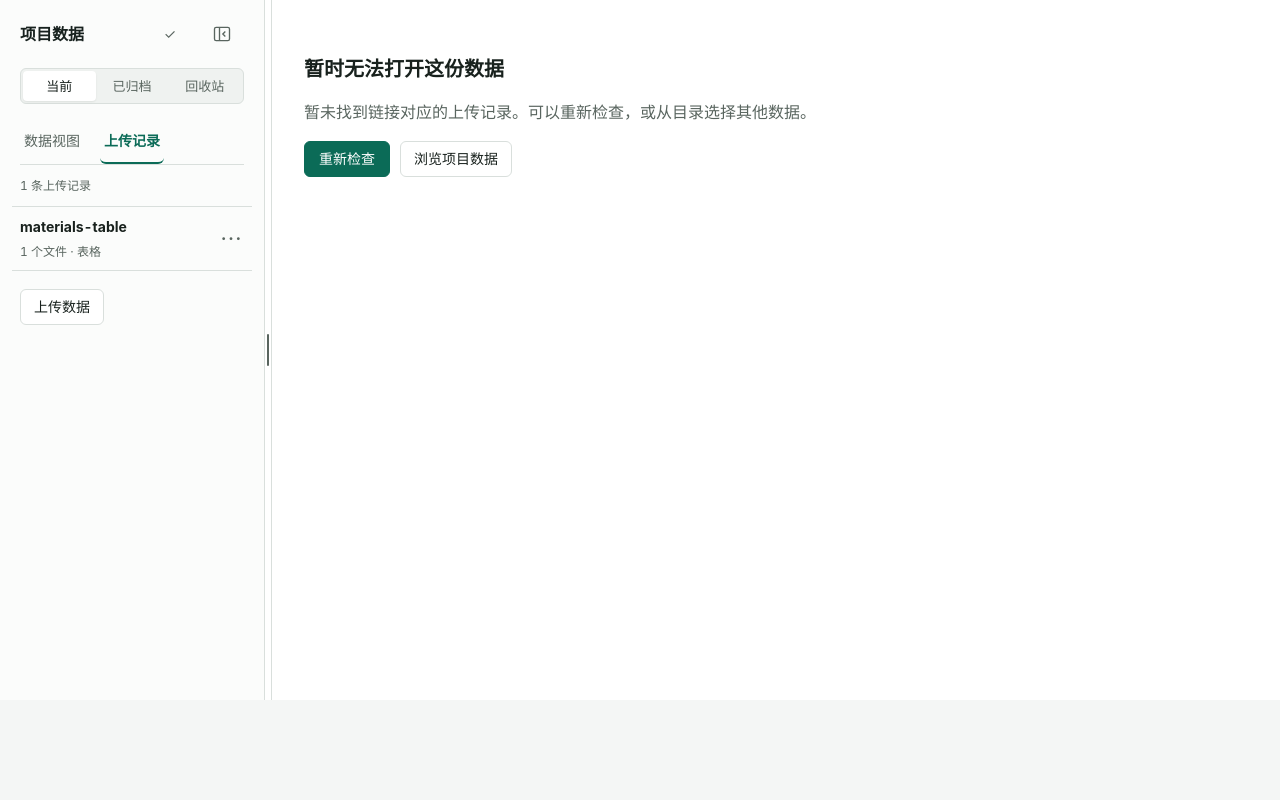
it: retains the directory after a failed link recheck without duplicate errors
The width and height of the screenshot is (1280, 800).
Click the button "重新检查": (347, 159) [304,141,390,177]
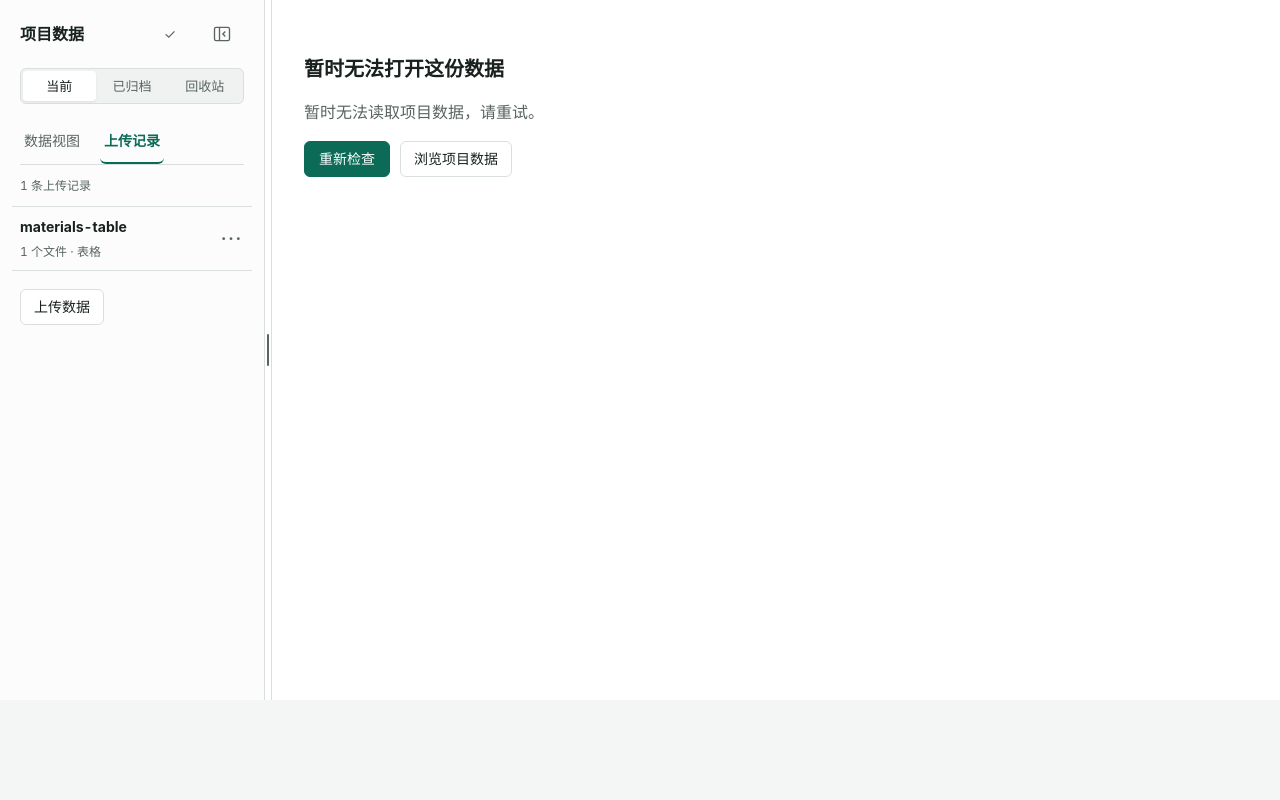
Expected: the link "materials-table 1 个文件 · 表格" is shown, [20,218,127,259]
Expected: the message shows "暂时无法读取项目数据", [304,102,544,122]
